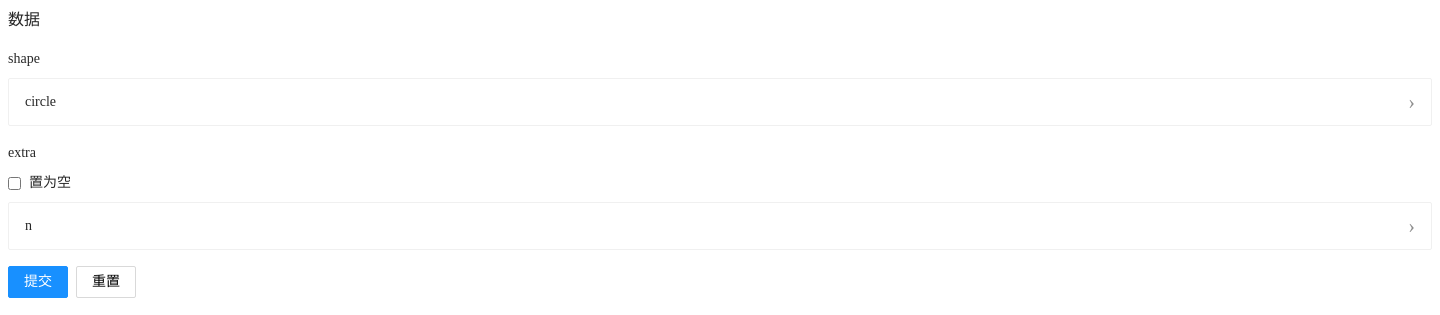
Scenario: 钻取渲染 › 对象分支的联合为入口; 可空对象显示置空开关与入口
This screenshot has width=1440, height=315.
Check: the checkbox labelled "置为空" is shown, box [8,176,21,190]
Check: the button "n ›" is shown, box [8,202,1432,250]
What coordinates should you click on to do the following:
click the button "circle ›"
I would click on:
 (41, 102)
Its box is [8,78,1432,126].
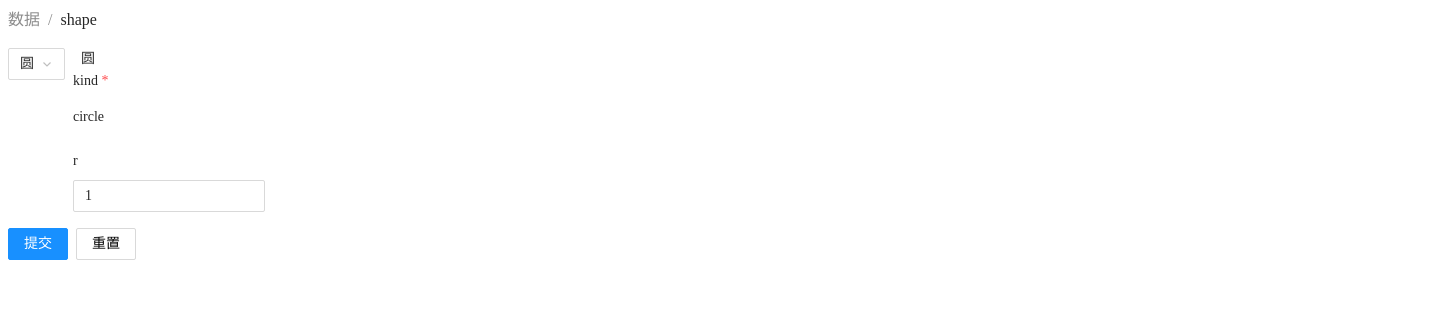
Check: the dropdown named "类型" is shown, box [8,48,65,80]
